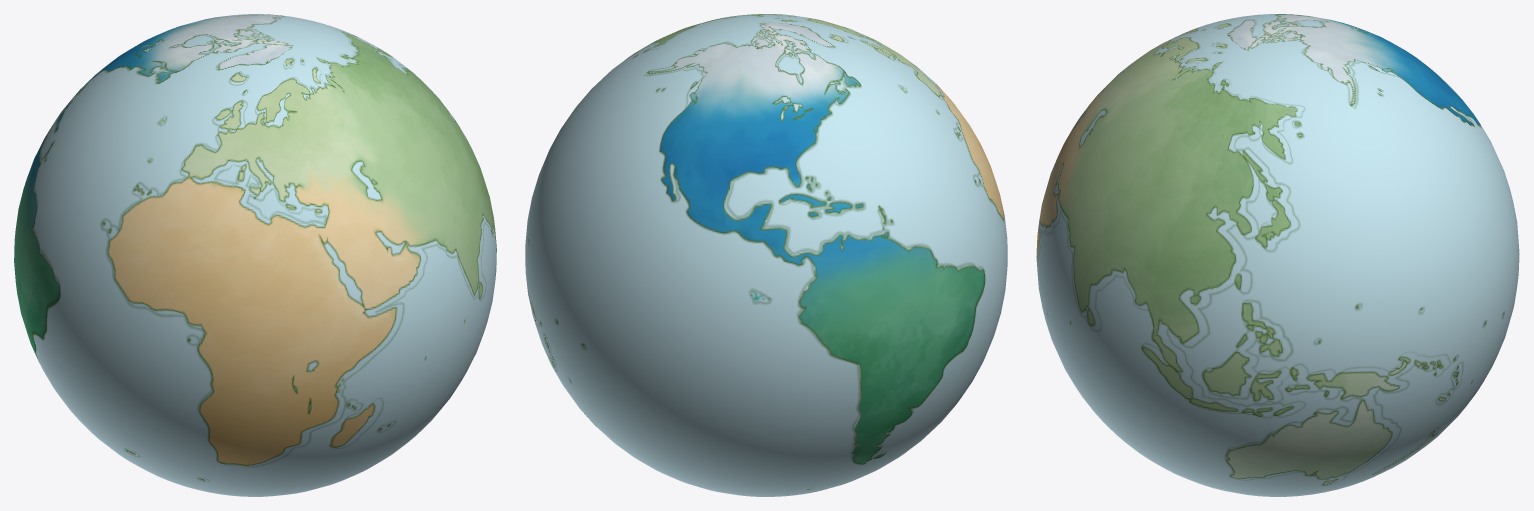
Rendered from Globe.glb.
3 views of the same model, side by side, from view 1: azimuth 30°, elevation 25°; view 2: azimuth 150°, elevation 25°; view 3: azimuth 270°, elevation 25° (orthographic).
Parts seen in each view (by area): view 1: Globe_2; view 2: Globe_2; view 3: Globe_2.
Boxes of the visible parts, left/top/right/bottom form: Globe_2: left=14, top=14, right=496, bottom=496; Globe_2: left=525, top=14, right=1007, bottom=496; Globe_2: left=1036, top=14, right=1519, bottom=496.
Size of the model in its own units: 2 by 2 by 2.
1 material, 1 textured.
